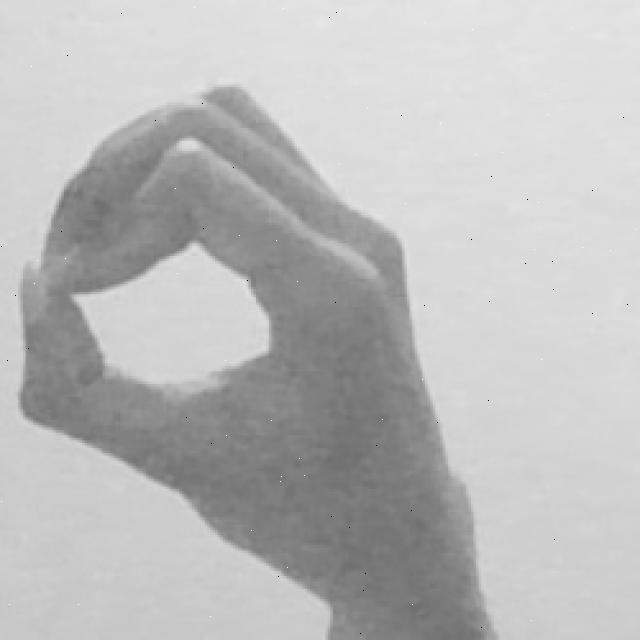O: (5, 77, 499, 640)
